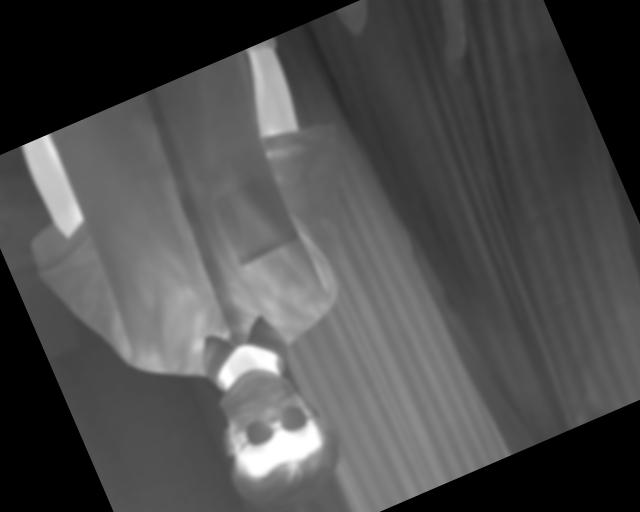face: (189, 346, 360, 512)
